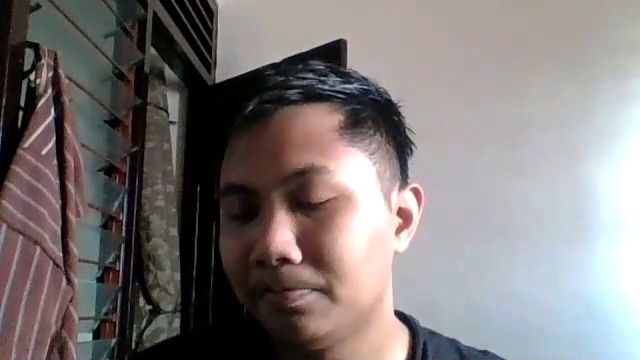Distracted: (211, 102, 428, 349)
